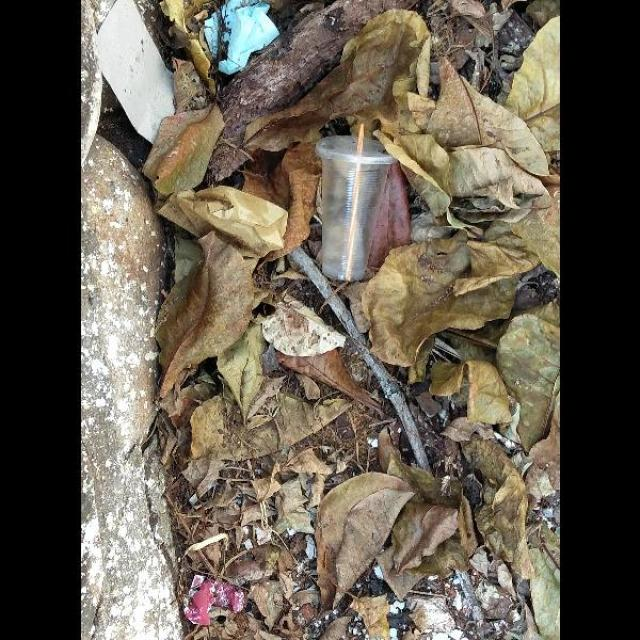plastic_waste: (286, 109, 419, 294), (161, 549, 275, 640), (184, 0, 284, 76)
